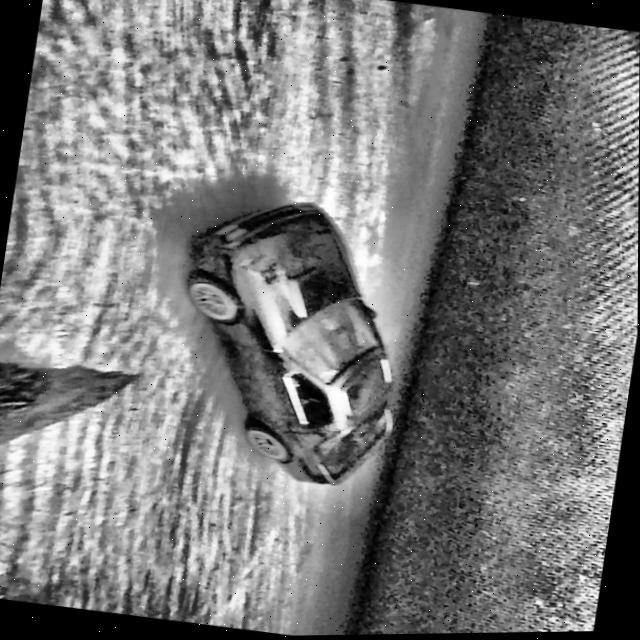car: (158, 187, 426, 497)
